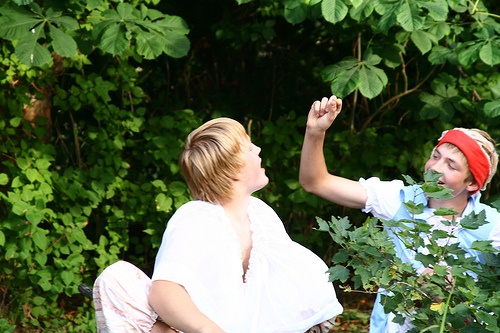head: (174, 117, 273, 208), (424, 128, 500, 201)
person: (90, 116, 351, 329), (299, 99, 495, 333)
